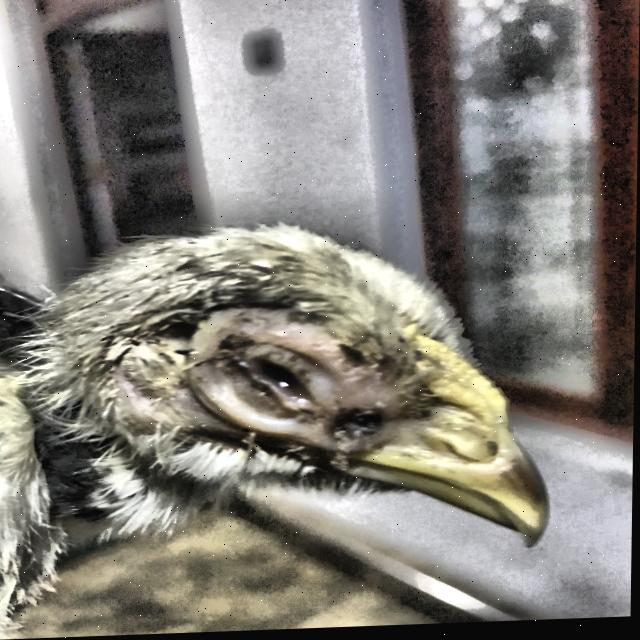Coryza: (70, 184, 573, 588)
